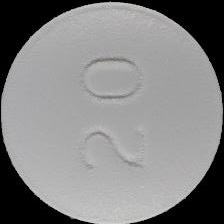68788-6783: (0, 0, 224, 224)
